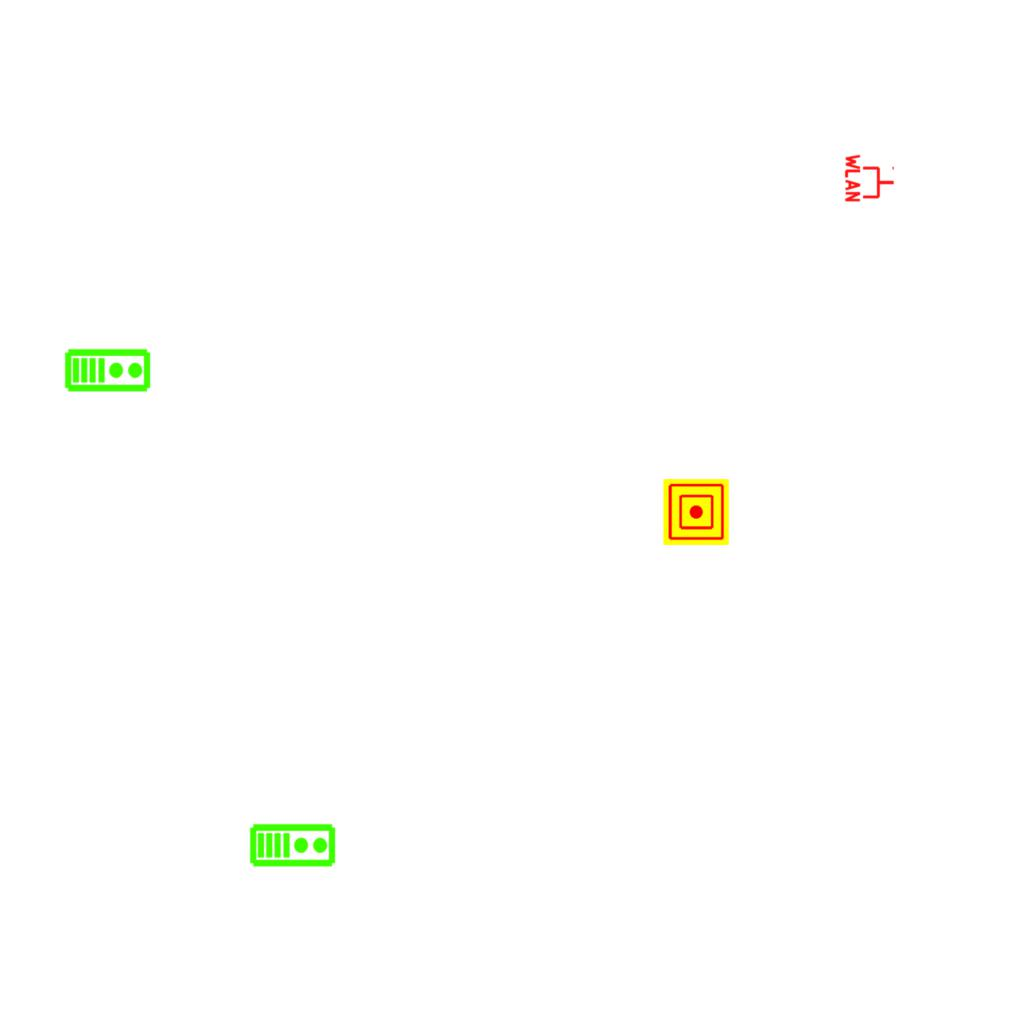Gegensprechanlage_mit_Video: (64, 346, 152, 393), (249, 821, 337, 868)
NAM-Nichtautomatischer_Melder: (663, 479, 729, 545)
WLAN: (844, 152, 896, 204)
